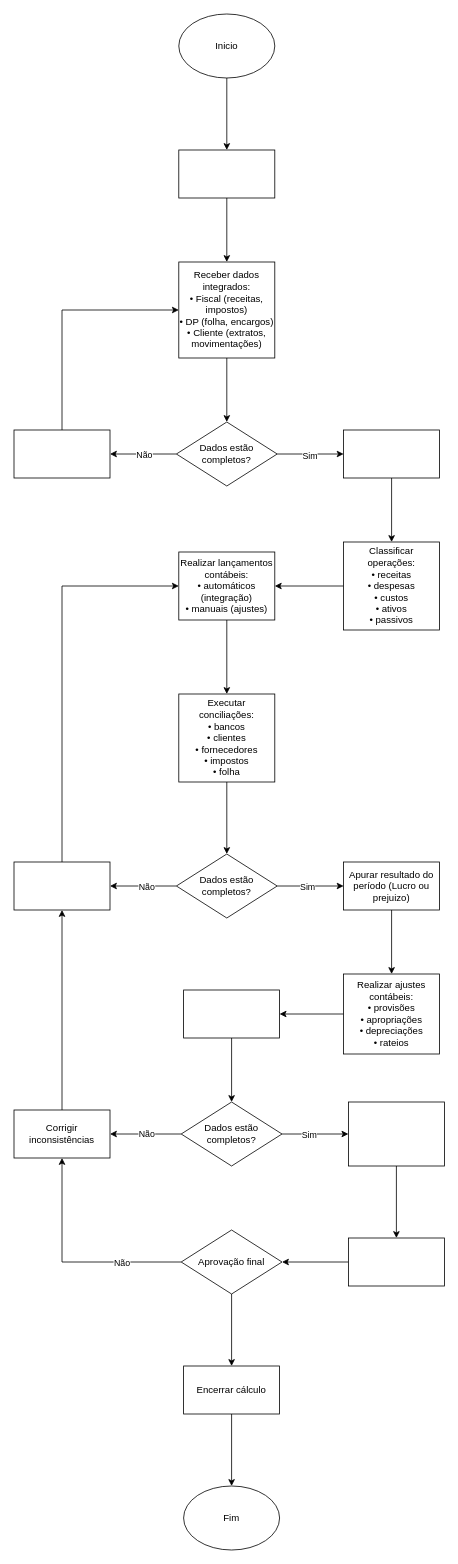
Some shapes in this 458 by 1564 pixel diagram are drawn without their labels. The centre of each missing label's shape, as x and y in pixels:
"(Recebimento de informações integradas)" goes at point (226, 173).
"Gerar demonstrações: • balancete • DRE • balanço" goes at point (396, 1133).
"Identificar divergência e corrigir lançamentos" goes at point (61, 885).
"Iniciar classificação contábil" goes at point (391, 453).
"Revalidar saldos contábeis" goes at point (231, 1013).
"Solicitar informações faltantes" goes at point (61, 453).
"Validar demonstrações contábeis" goes at point (396, 1261).
